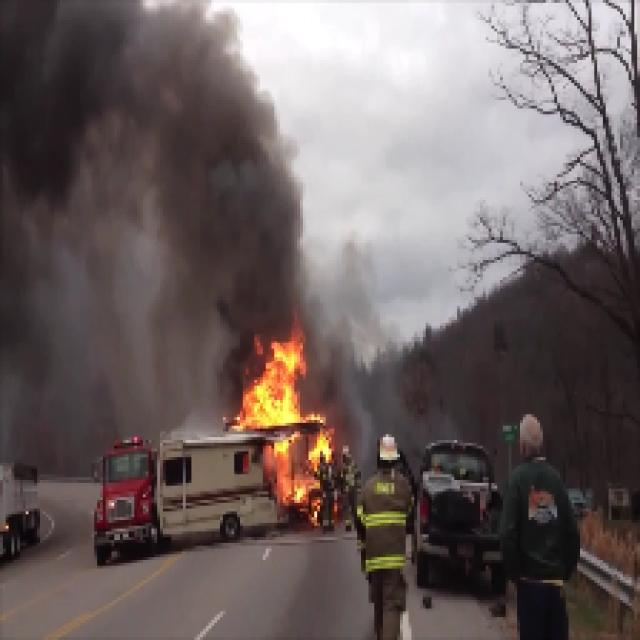smoke: (7, 5, 190, 423), (197, 22, 306, 328)
